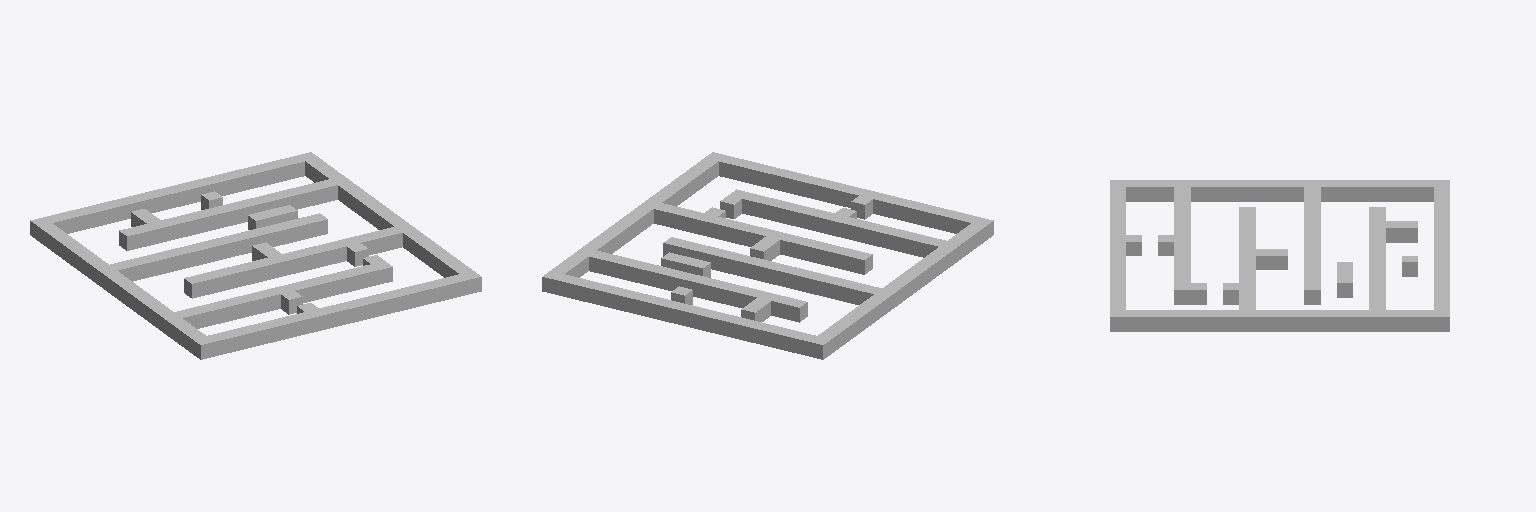
Rendered from MarbleMazeWallsOnly.obj.
3 views of the same model, side by side, from view 1: azimuth 30°, elevation 25°; view 2: azimuth 150°, elevation 25°; view 3: azimuth 270°, elevation 25° (orthographic).
Parts seen in each view (by area): view 1: object 1; view 2: object 1; view 3: object 1.
Part boxes in pixels (x1,y1,x2,y2): object 1: (30, 152, 481, 359); object 1: (542, 152, 993, 359); object 1: (1110, 180, 1449, 331).
Size of the model in its own units: 2 by 0.1 by 2.1.